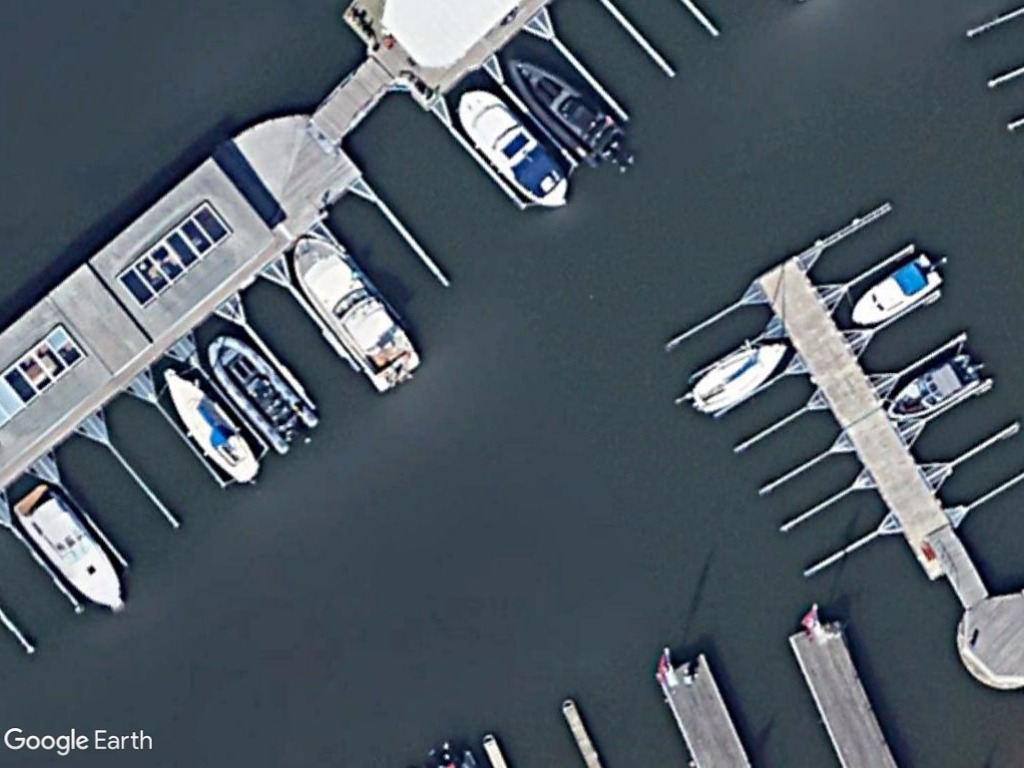boat: (286, 230, 427, 399), (448, 78, 577, 224), (8, 482, 134, 618), (199, 333, 318, 457), (149, 362, 261, 490), (506, 50, 626, 167), (841, 240, 956, 330), (684, 330, 790, 422), (879, 343, 985, 429)
